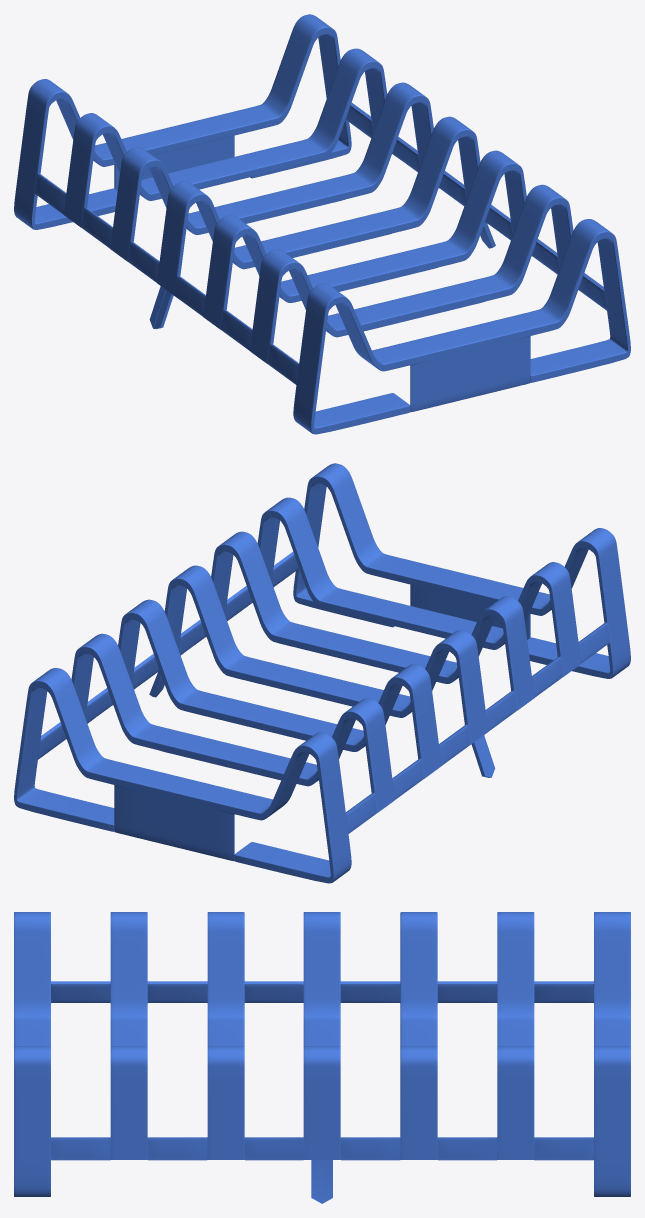
The model's file is tabaklik.fbx.
3 renders of one model, top to bottom at view 1: azimuth 30°, elevation 25°; view 2: azimuth 150°, elevation 25°; view 3: azimuth 270°, elevation 25°, orthographic. The views are drawn at different scales.
Visible parts, largest first — view 1: body2.006; view 2: body2.006; view 3: body2.006.
Part boxes in pixels (<box>): body2.006: <box>14,14,630,434</box>; body2.006: <box>14,463,630,883</box>; body2.006: <box>14,912,630,1203</box>.
Bounding box in the file's own units: 192 × 72.11 × 291.
